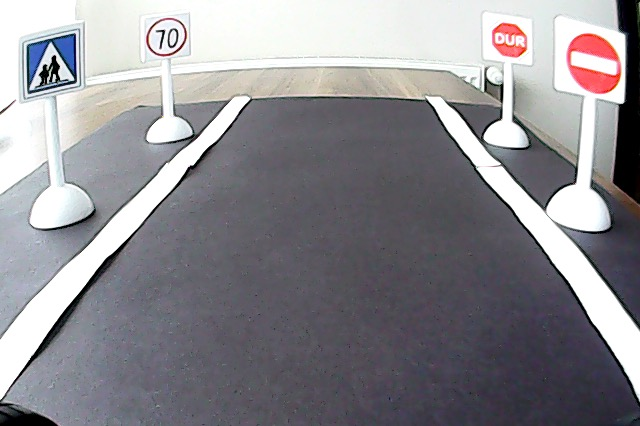do not enter: (561, 27, 625, 99)
school crossing: (20, 28, 83, 100)
speed limit 70: (143, 15, 189, 58)
stop sign: (488, 18, 532, 60)
